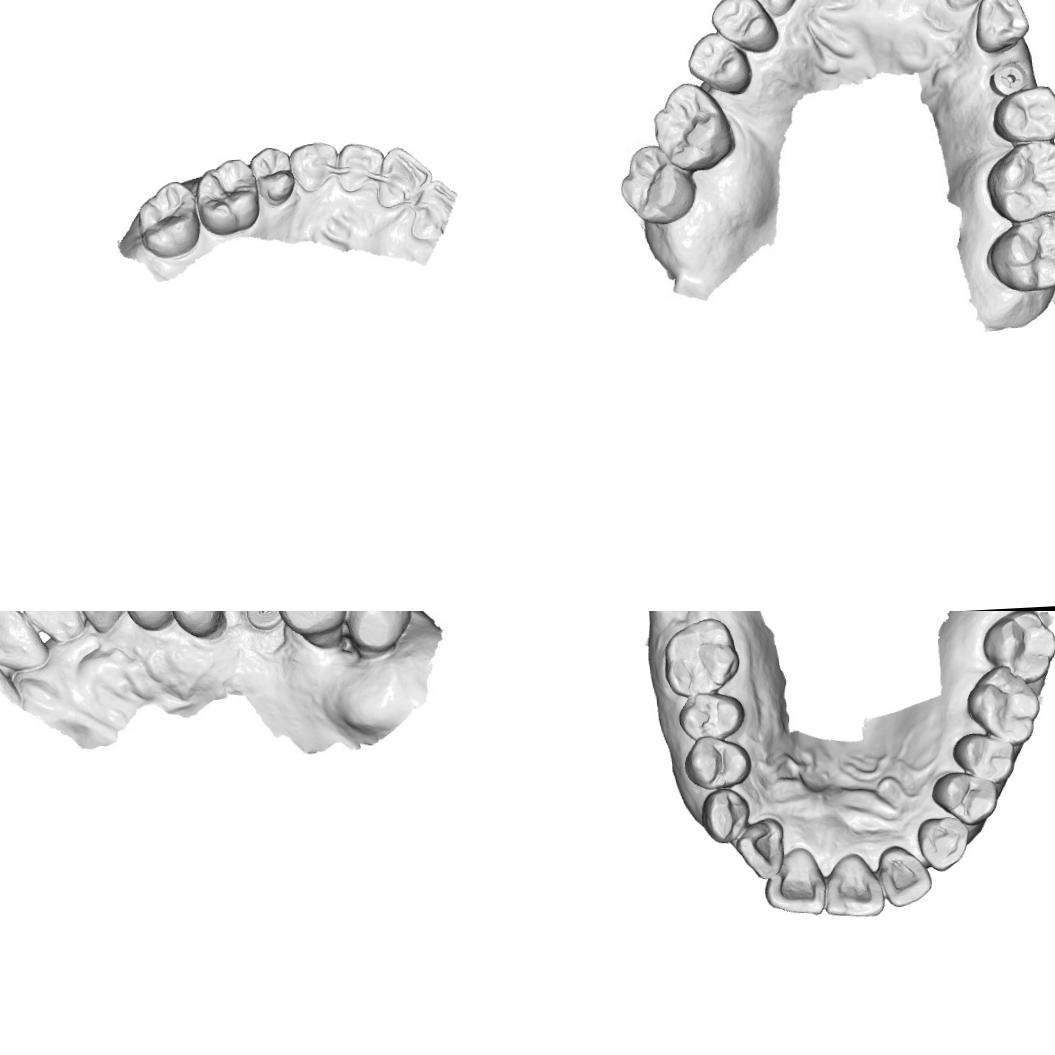canine: (915, 813, 972, 873), (698, 786, 752, 846), (286, 140, 340, 194), (976, 0, 1027, 48), (71, 611, 133, 634), (745, 0, 802, 19)
implant: (243, 611, 281, 630)
implant_plus: (988, 60, 1024, 93)
incisor: (761, 844, 826, 918), (821, 850, 885, 921), (374, 144, 435, 208), (876, 842, 934, 907), (733, 815, 787, 883), (408, 176, 460, 240), (0, 611, 45, 676), (335, 142, 386, 192), (16, 611, 83, 643)
molar: (648, 78, 736, 172), (615, 140, 699, 225), (660, 615, 742, 699), (962, 662, 1041, 748), (981, 138, 1055, 220), (979, 611, 1055, 686), (192, 156, 261, 237), (984, 214, 1055, 291), (136, 178, 201, 258), (265, 611, 349, 644), (340, 611, 411, 648)
premolar: (681, 730, 754, 794), (992, 83, 1055, 150), (929, 768, 1000, 827), (676, 688, 746, 742), (950, 730, 1016, 786), (684, 34, 743, 88), (710, 0, 775, 49), (248, 144, 296, 208), (170, 611, 226, 637), (123, 611, 175, 632)
